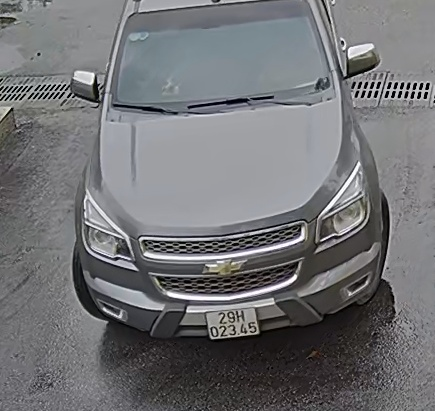vehicle plate: (203, 307, 264, 341)
